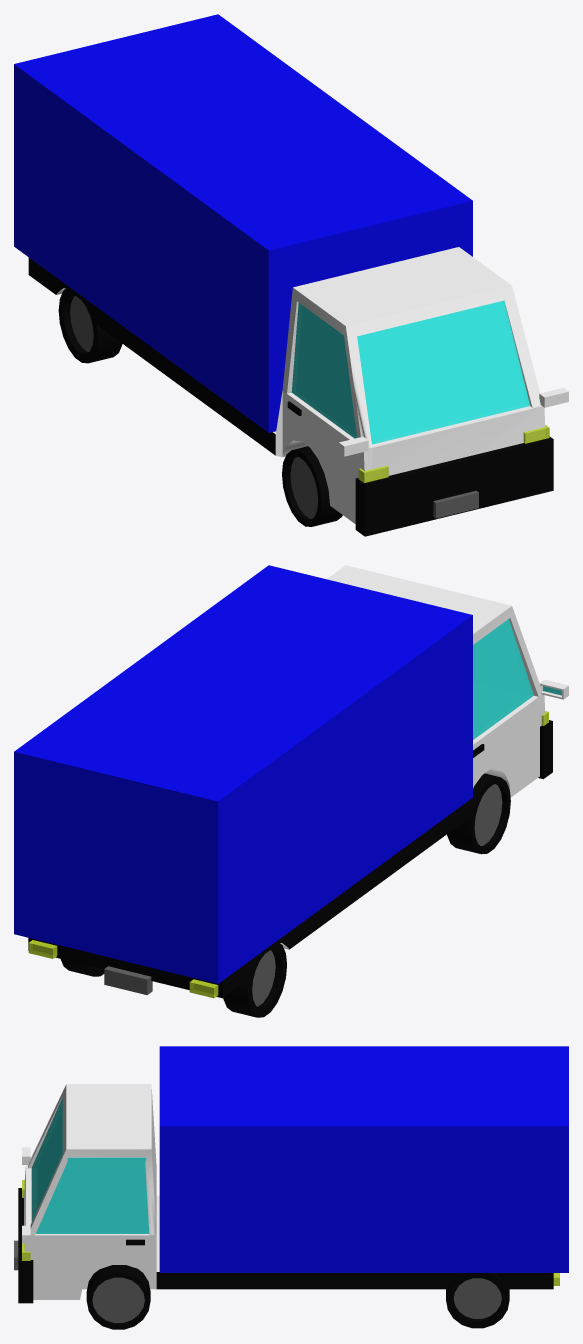
File: lowpoly car2 white & blue.fbx
3 renders of one model, top to bottom at view 1: azimuth 30°, elevation 25°; view 2: azimuth 150°, elevation 25°; view 3: azimuth 270°, elevation 25°, orthographic. The views are drawn at different scales.
Parts seen in each view (by area): view 1: Box043, Box033, Box037, Box039, Box035, Cylinder030, Cylinder014, Box040; view 2: Box043, Box033, Box035, Cylinder030, Cylinder014, Box049, Box039; view 3: Box043, Box033, Box038, Cylinder015, Cylinder029, Box037, Box039.
Part boxes in pixels (x1,y1,x2,y2): Box043: [14, 14, 472, 432]; Box033: [28, 247, 545, 523]; Box037: [357, 300, 529, 444]; Box039: [355, 436, 553, 536]; Box035: [291, 303, 356, 438]; Cylinder030: [282, 446, 342, 526]; Cylinder014: [58, 288, 122, 363]; Box040: [433, 490, 478, 518]; Box043: [14, 565, 472, 983]; Box033: [28, 565, 545, 998]; Box035: [473, 619, 533, 739]; Cylinder030: [447, 773, 510, 854]; Cylinder014: [223, 943, 286, 1017]; Box049: [104, 966, 152, 995]; Box039: [538, 720, 552, 779]; Box043: [159, 1046, 568, 1272]; Box033: [24, 1084, 553, 1299]; Box038: [36, 1157, 149, 1233]; Cylinder015: [86, 1265, 150, 1329]; Cylinder029: [446, 1273, 509, 1328]; Box037: [31, 1097, 62, 1221]; Box039: [18, 1188, 33, 1303].
Size of the model in its own units: 77.86 by 84.99 by 207.
